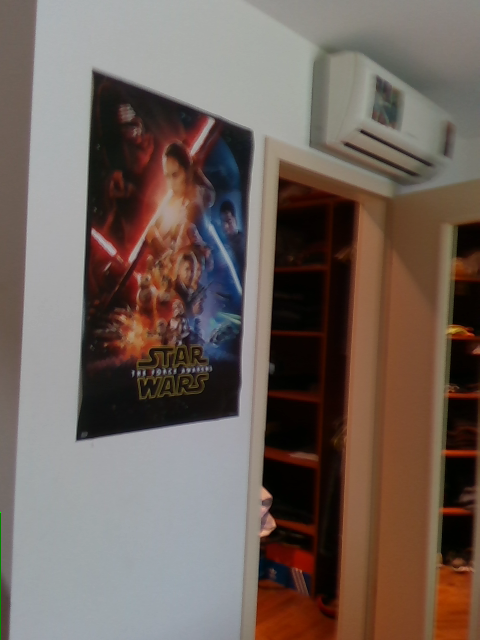open: (234, 138, 479, 639)
